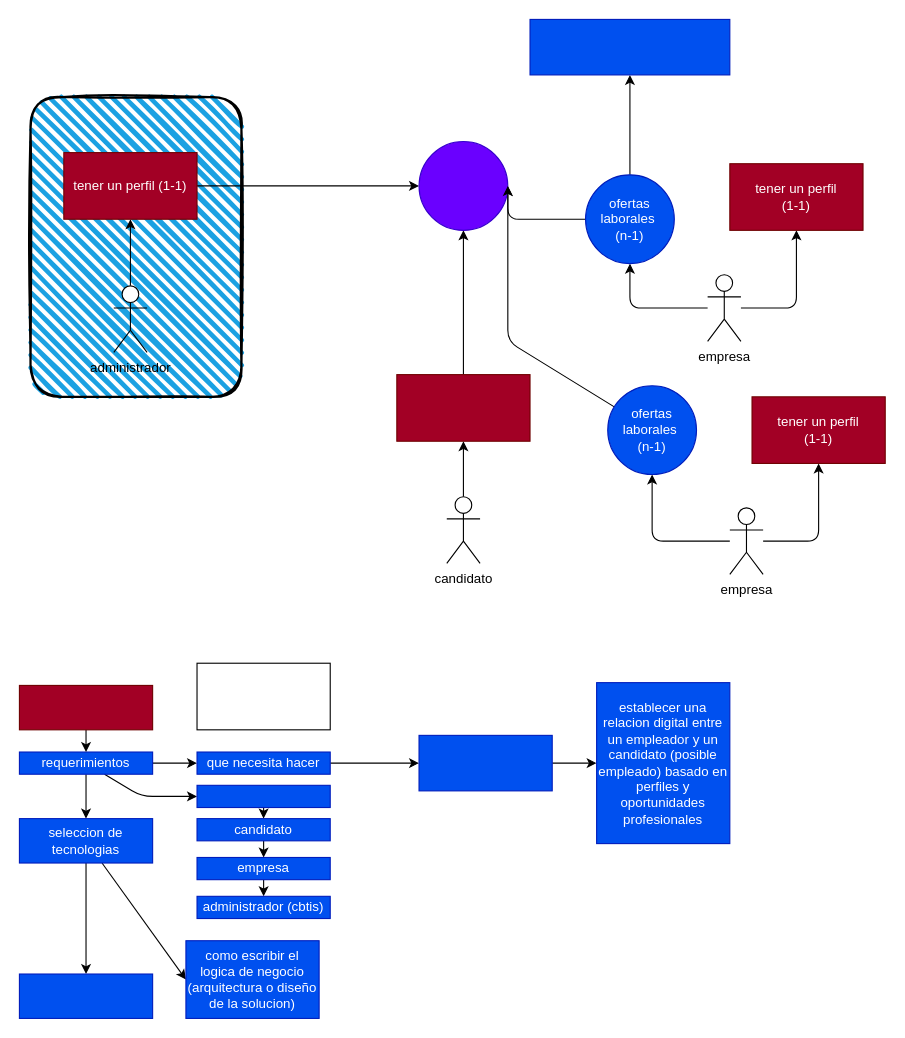
The diagram is 905 pixels wide and 1038 high, and some of its shapes have lost their labels. Each missing label, with the centre of its shape:
"front-end design methodology" belongs at point 85,707.
"look and feel (diseño)" belongs at point 85,995.
"piscina laboral" belongs at point 463,185.
"que? quien? como? y con que?" belongs at point 263,696.
"quienes lo van usar" belongs at point 263,796.
"tener perfil. curriculum vitae, resume (1-1)" belongs at point 463,407.
"titulo : Se busca mesero subtitulo: descripcion del puesto ..." belongs at point 629,46.
"una plataforma de bolsa de trabajo" belongs at point 485,762.
